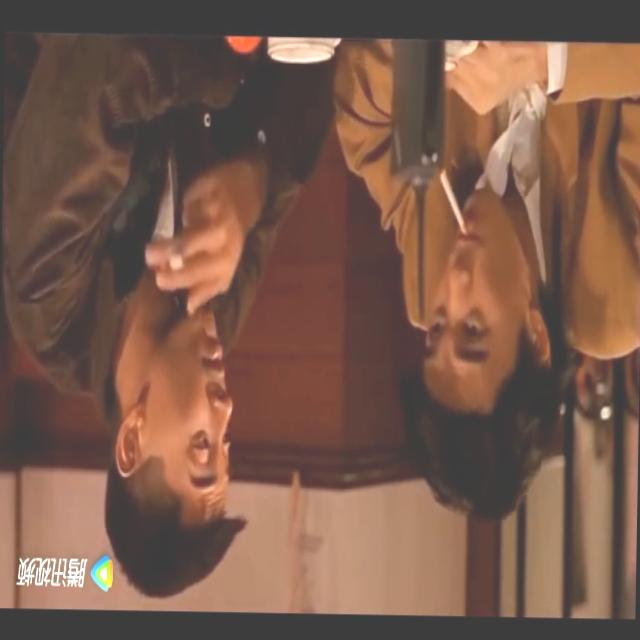cigarette: (436, 168, 466, 230)
